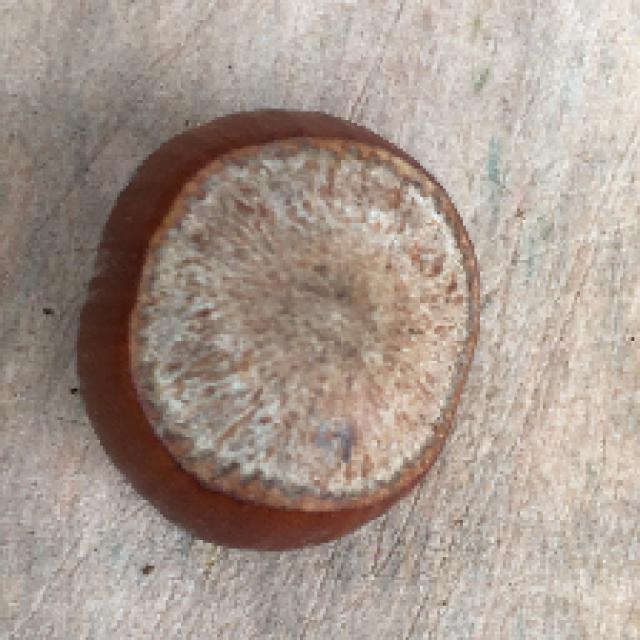qualityHazelnut: (75, 103, 486, 556)
